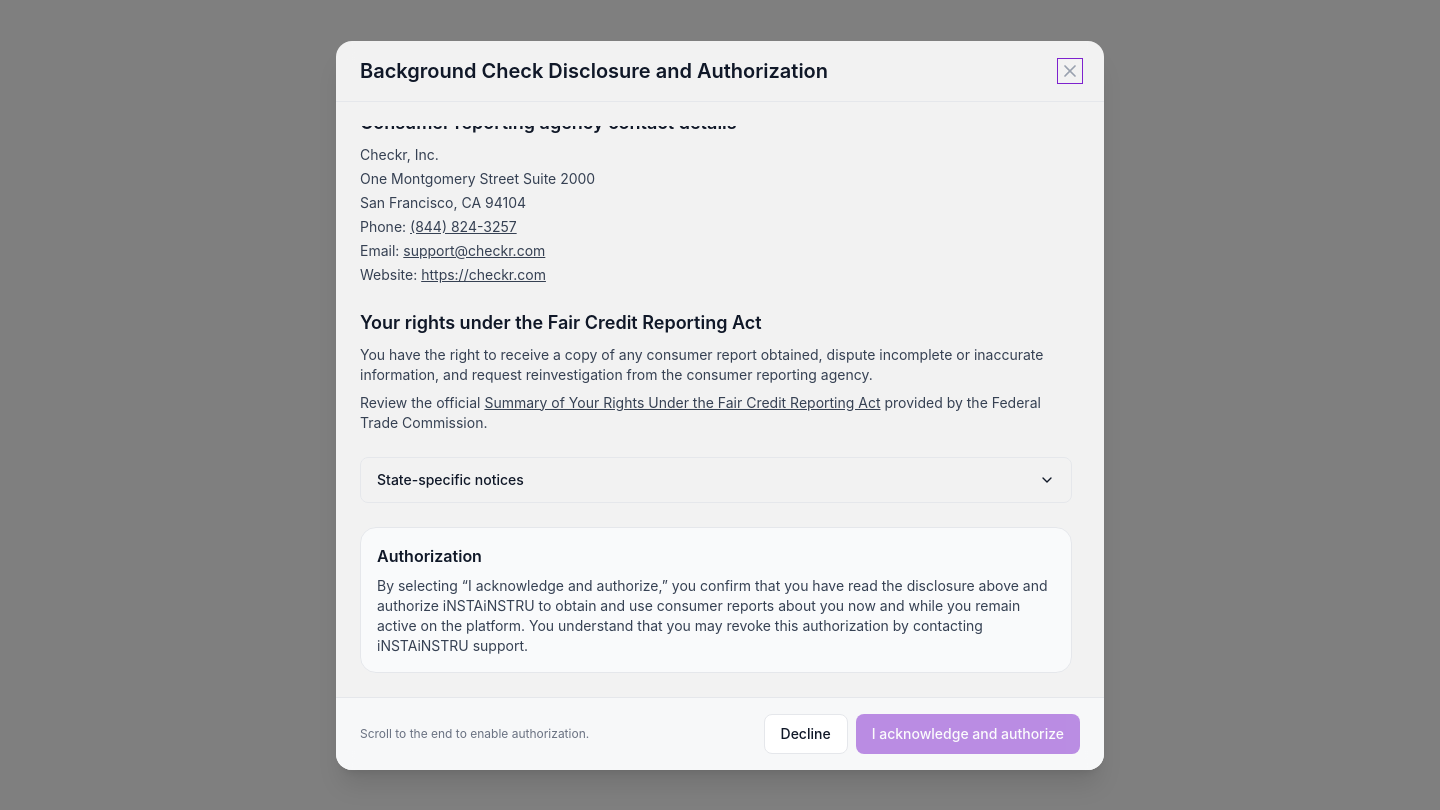
Scenario: BackgroundCheckDisclosureModal › state-specific notices toggle › expands and collapses state-specific notices
(page scrolled)
Click the button "State-specific notices": {"x": 450, "y": 479} x1=360 y1=456 x2=1072 y2=502
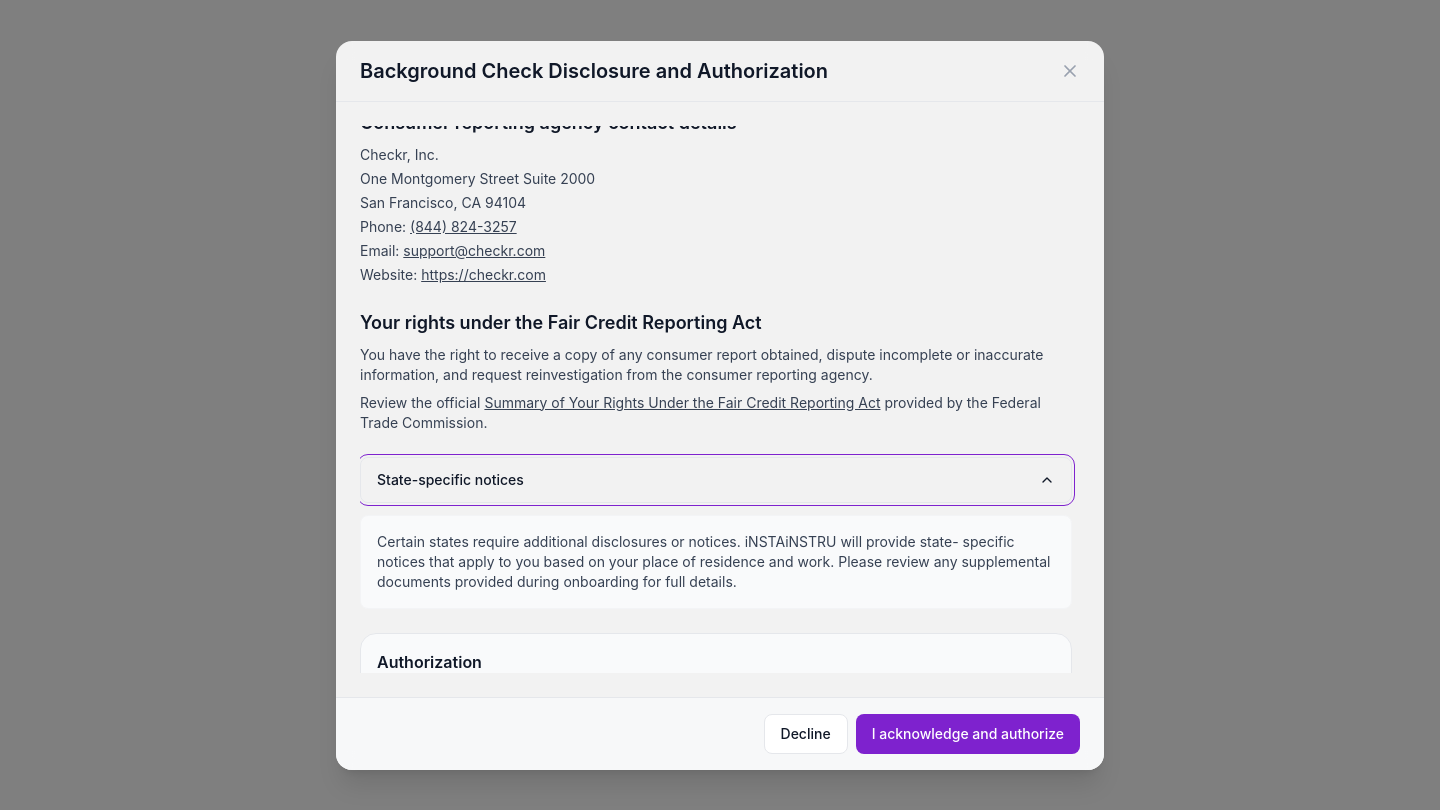
Expected: the button "State-specific notices" is expanded
Expected: the text "Certain states require additional disclosures" is shown, x1=377 y1=532 x2=1050 y2=590
Click the button "State-specific notices": {"x": 450, "y": 479} x1=360 y1=456 x2=1072 y2=502
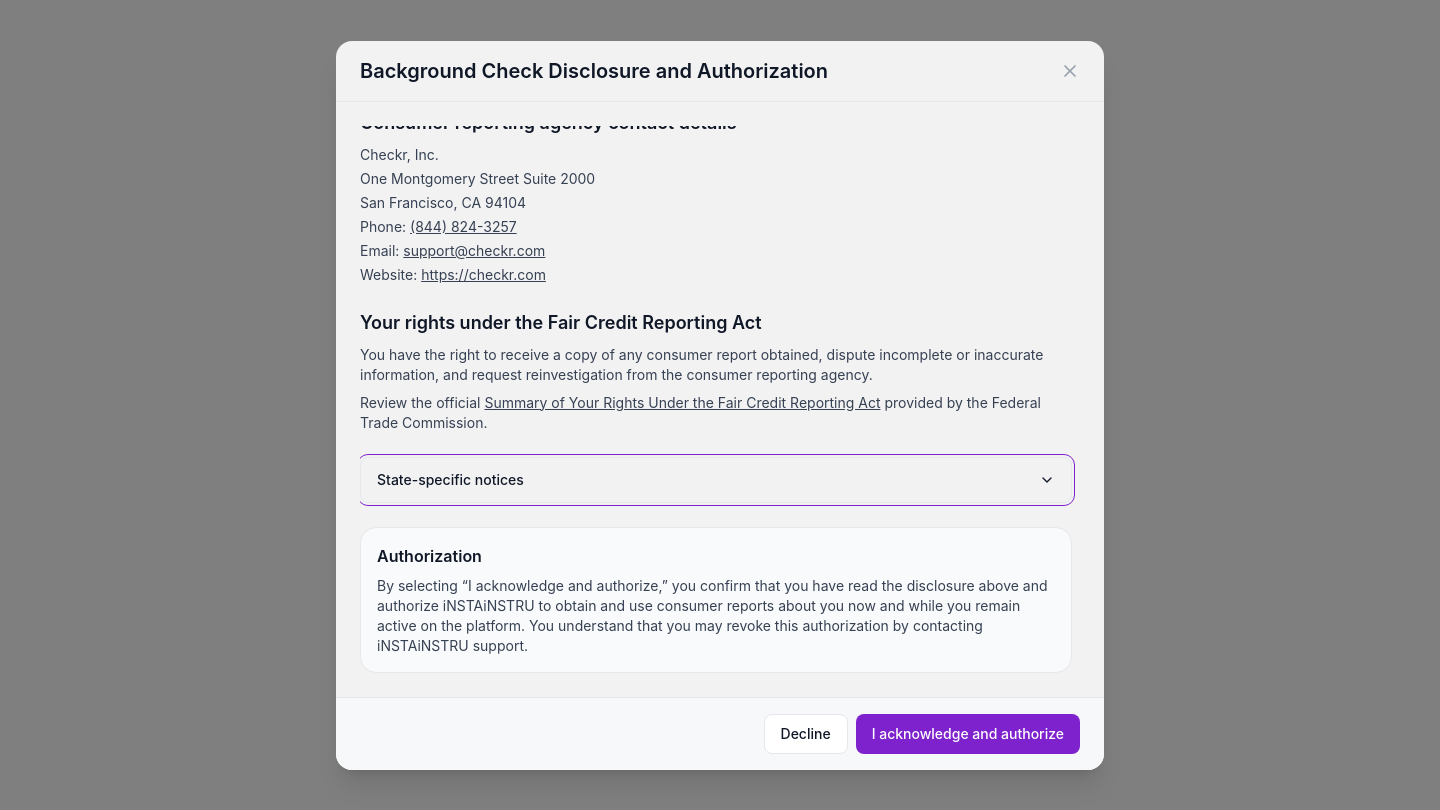
Expected: the button "State-specific notices" is collapsed, x1=360 y1=456 x2=1072 y2=502
Expected: the text "Certain states require additional disclosures" is gone
